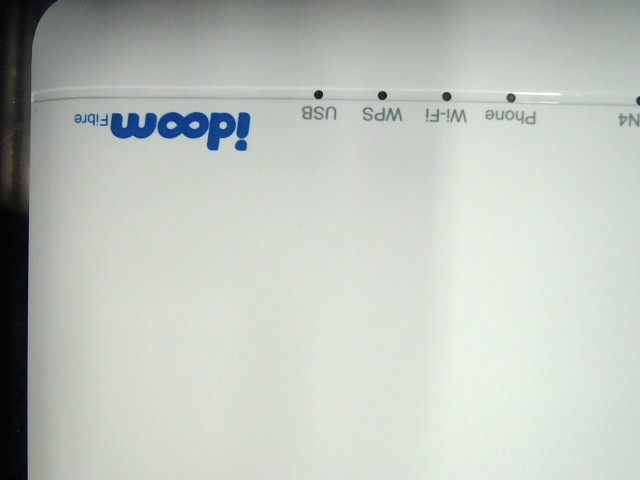BB_idoom: (63, 99, 256, 159)
